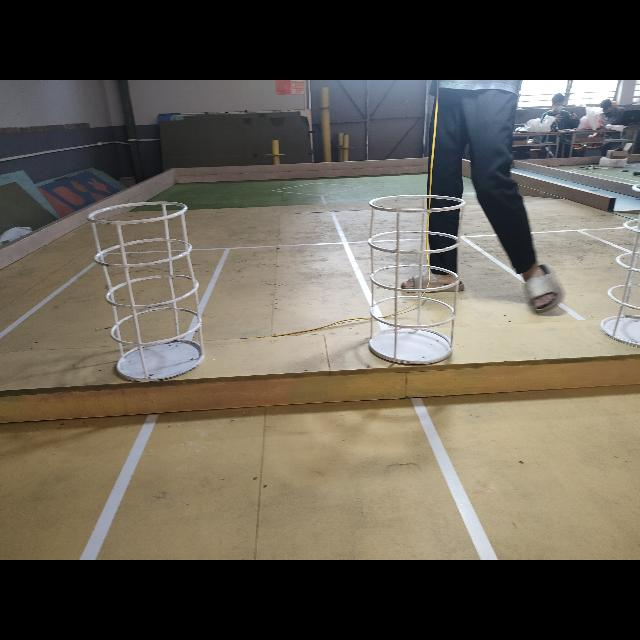S: (86, 198, 208, 384), (364, 193, 468, 364), (595, 169, 640, 351)
